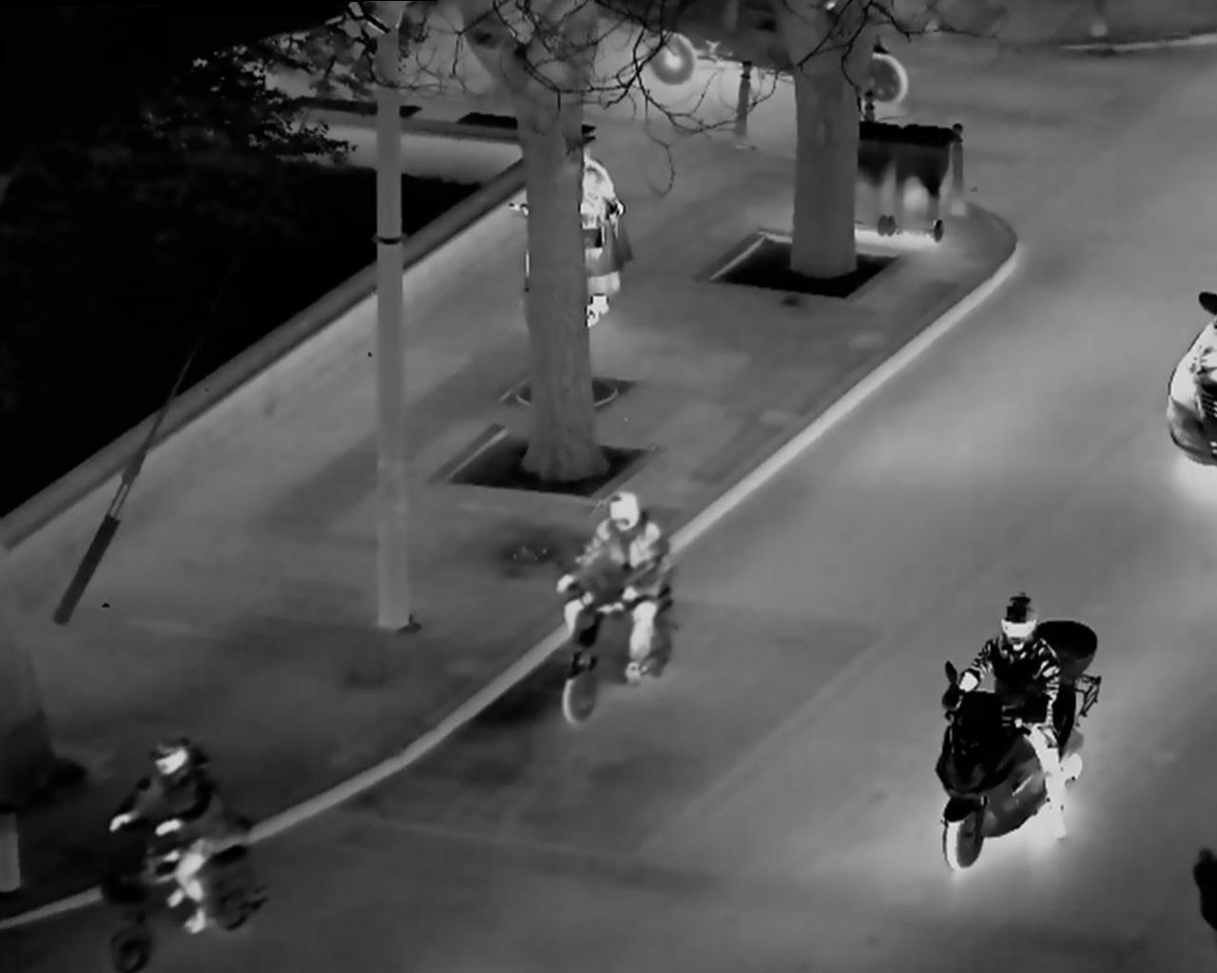person: (98, 724, 284, 951), (948, 571, 1080, 886), (552, 467, 688, 742), (574, 147, 647, 329)
